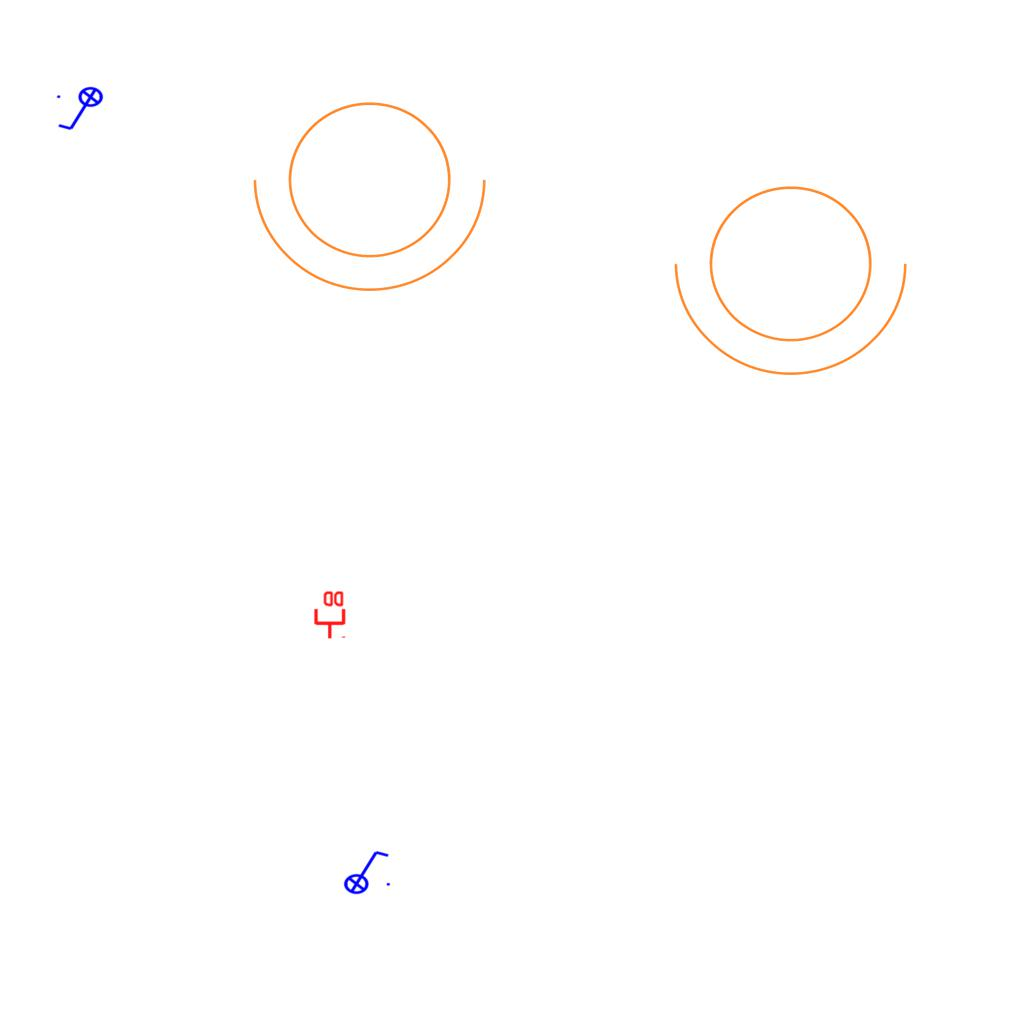Ausschalter_beleuchtet: (54, 86, 110, 134), (337, 847, 393, 895)
Datenanschluss_zweifach: (312, 589, 346, 640)
Scheinwerfer_fuer_Alarmbeleuchtung: (665, 161, 929, 386), (244, 77, 508, 302)
